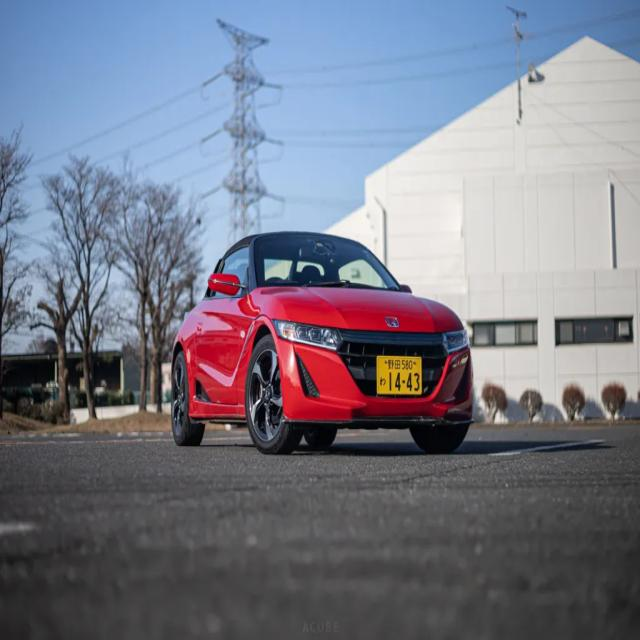red: (154, 207, 476, 476)
